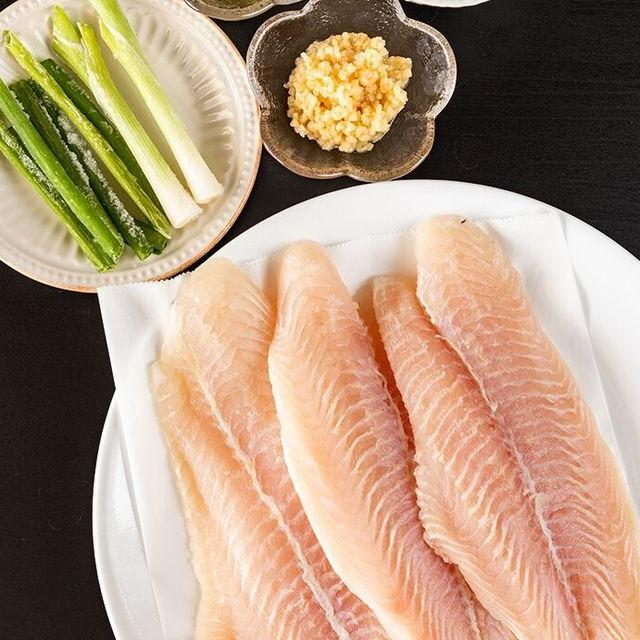fish: (340, 181, 640, 640)
